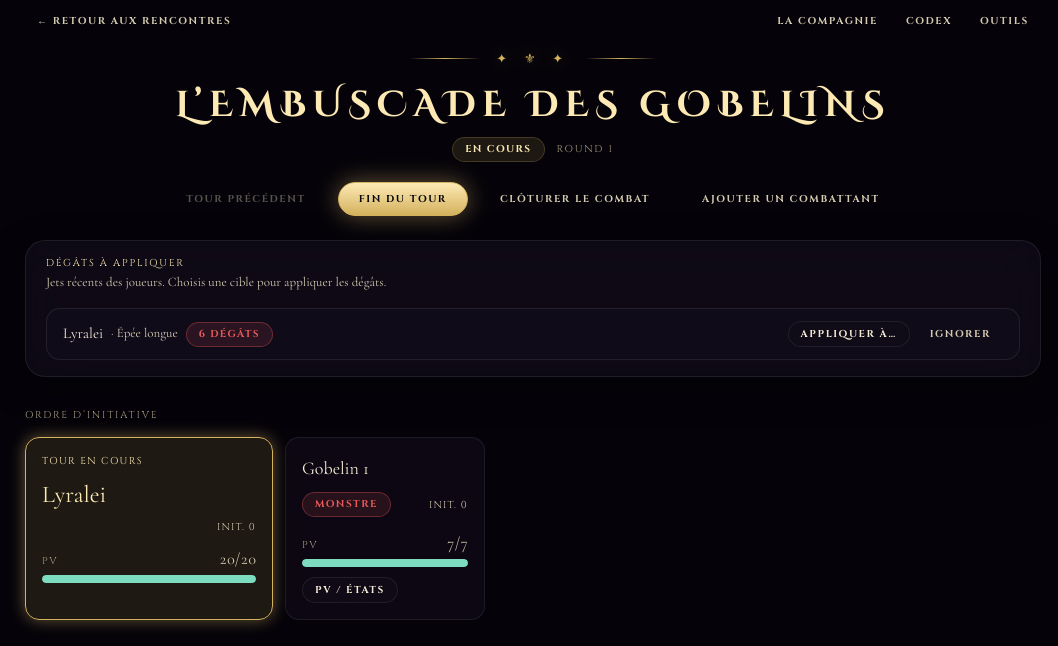
Test: <EncounterScreen> — hand-off dégâts (step 7b) › « Ignorer » retire l’event sans rien appliquer
Step 1. Click the button "Ignorer" → click(960, 334), box [918, 322, 1003, 346]
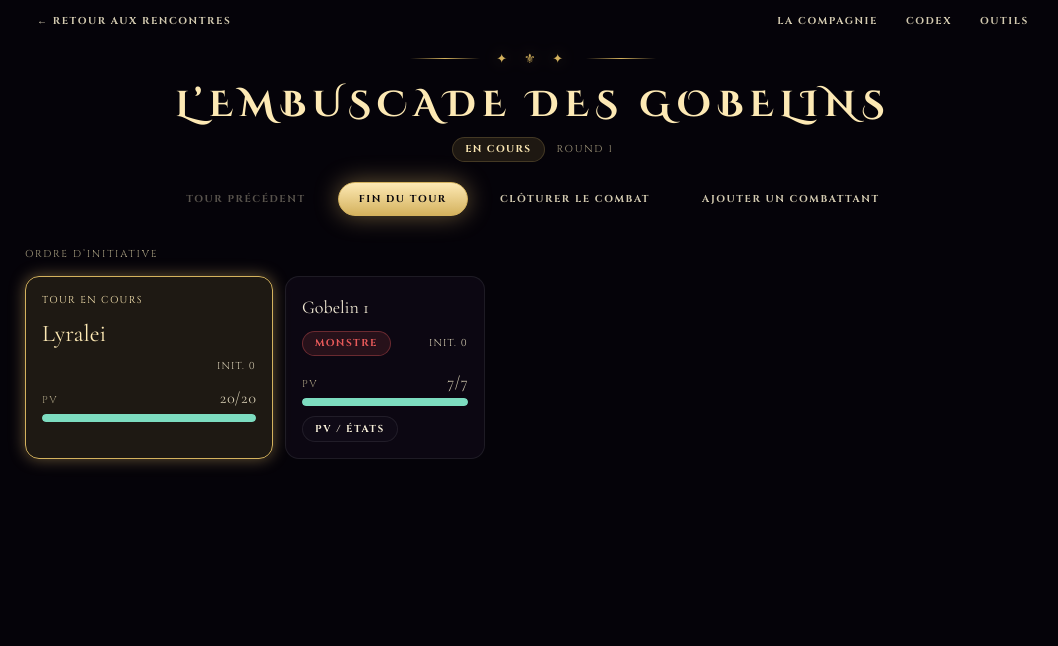
Expected: the heading "Dégâts à appliquer" is gone
